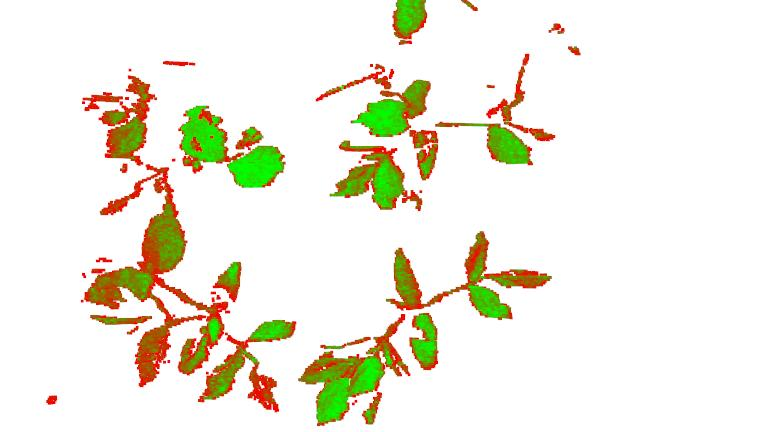mungbean: (297, 226, 555, 428), (310, 1, 558, 211), (74, 69, 286, 260), (79, 260, 295, 414)
